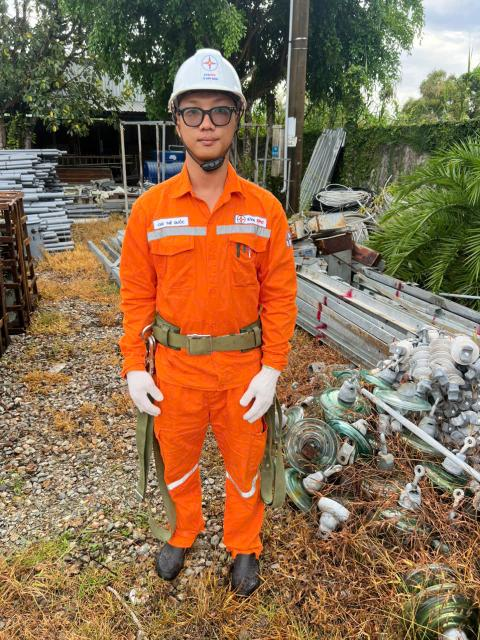gloves: (237, 353, 287, 427), (129, 362, 166, 422)
harness: (145, 295, 271, 366)
helmet: (162, 30, 253, 119)
shoes: (138, 512, 202, 588), (213, 530, 267, 597)
